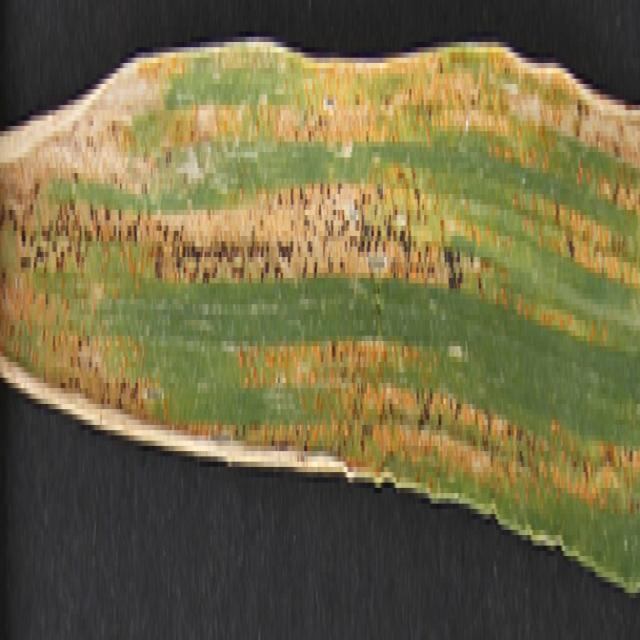leaf rust: (1, 16, 638, 582)
